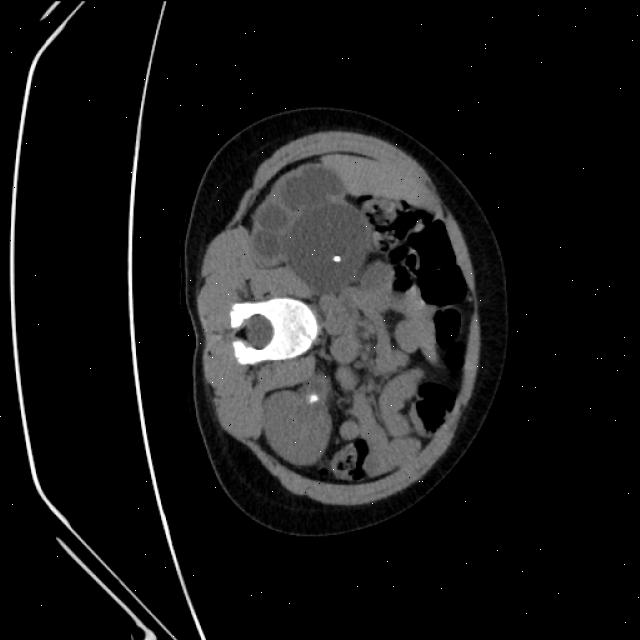kidneystone: (331, 251, 340, 264), (305, 394, 319, 402)
